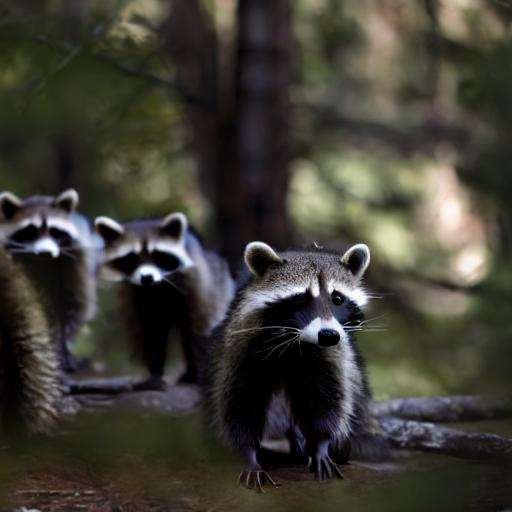raccoon: (198, 234, 387, 446), (97, 204, 237, 379), (0, 183, 102, 366)
